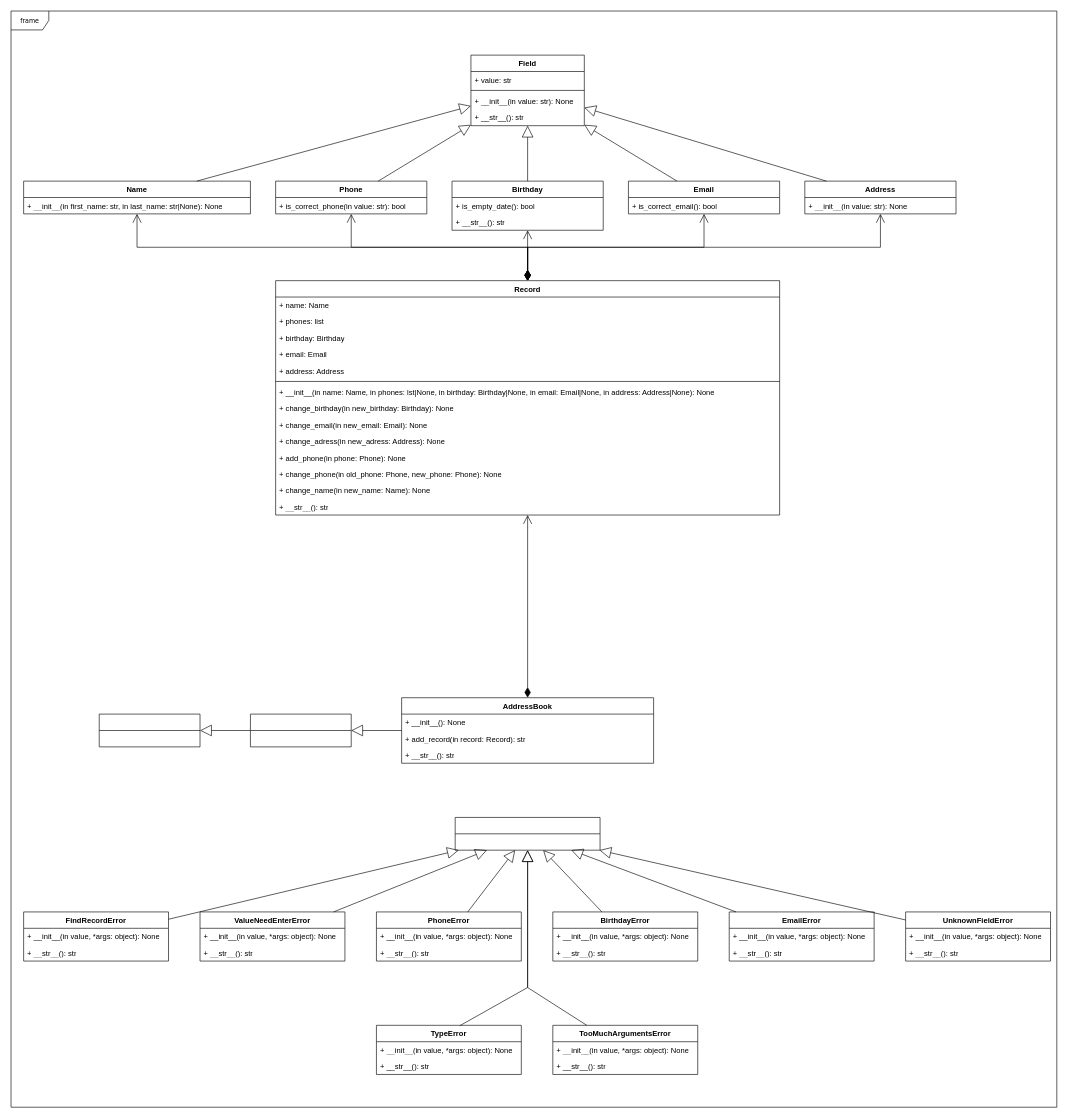
This 1068x1118 diagram has some shape labels left out. The shapes that lost their labels are listed below. From the top down, each one's centre as x and y in pixels, then its label:
the point at 149,730: MutableMapping
the point at 300,730: UserDict
the point at 527,833: Exception
